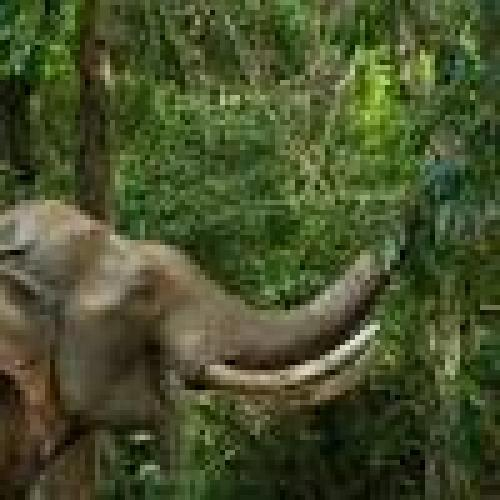asian_elephant-endangered: (0, 197, 394, 487)
